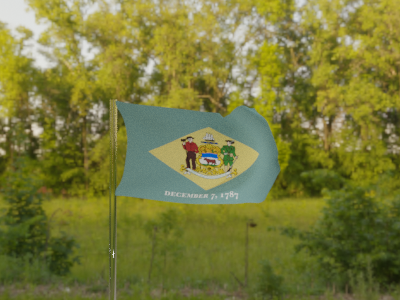Delaware flag: (115, 98, 280, 205)
